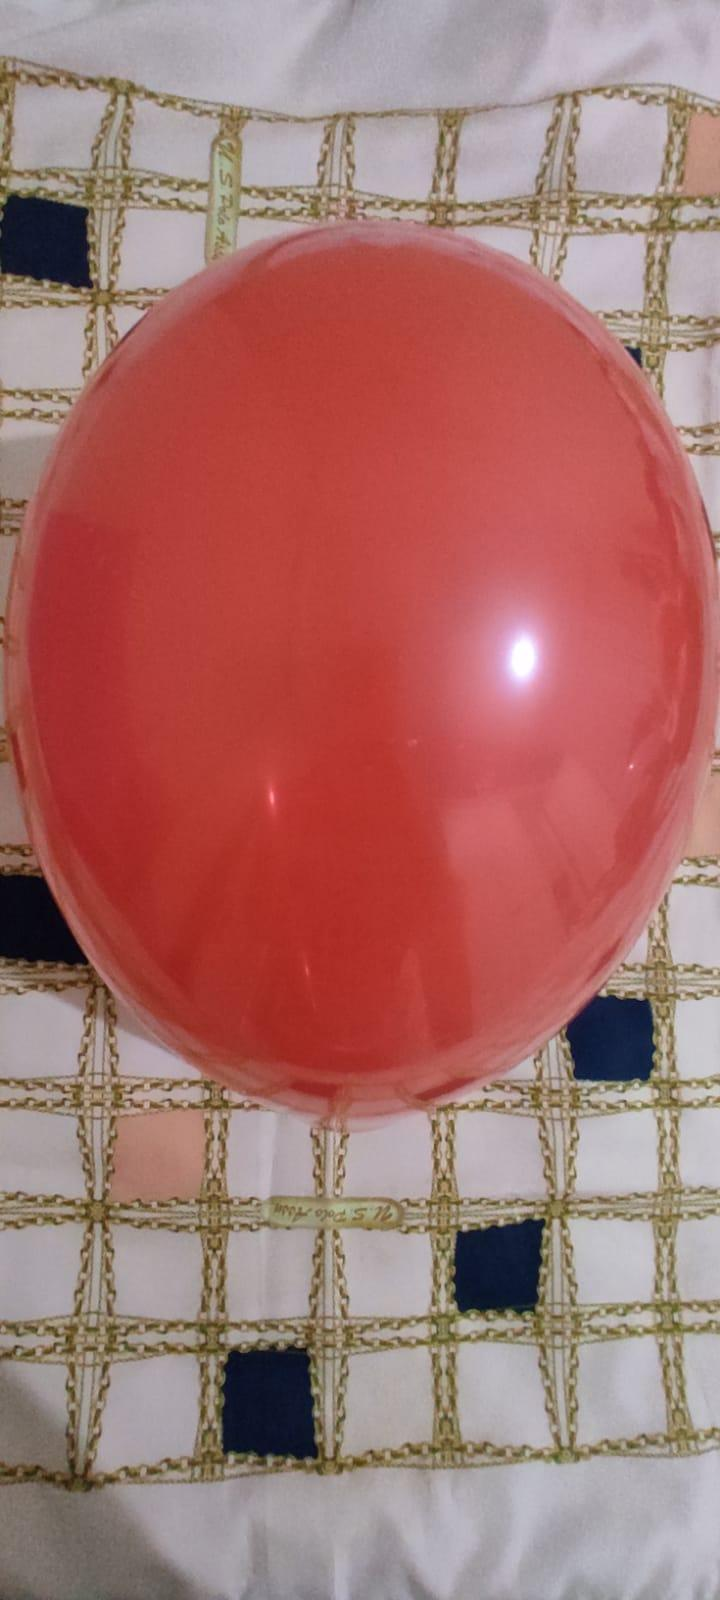red: (14, 214, 720, 1127)
